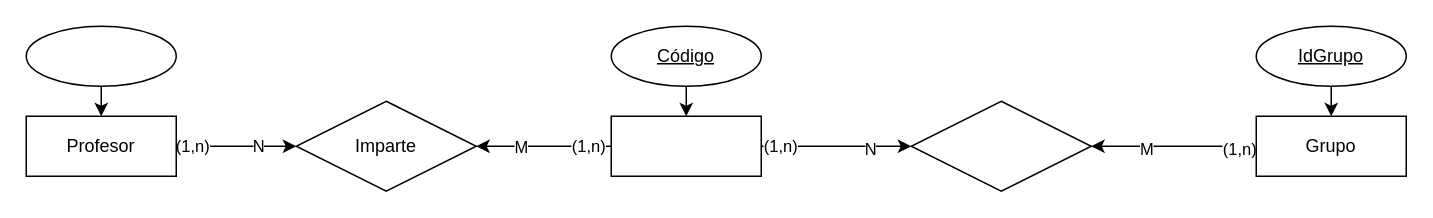
Image size: 1433x218. Some labels were removed from this diagram. Here are the shapes that lost their labels. From the top down, the box of each, then its label:
(25, 25, 176, 86): IdProfesor
(610, 115, 761, 176): Asignatura
(910, 100, 1091, 191): Cursa
